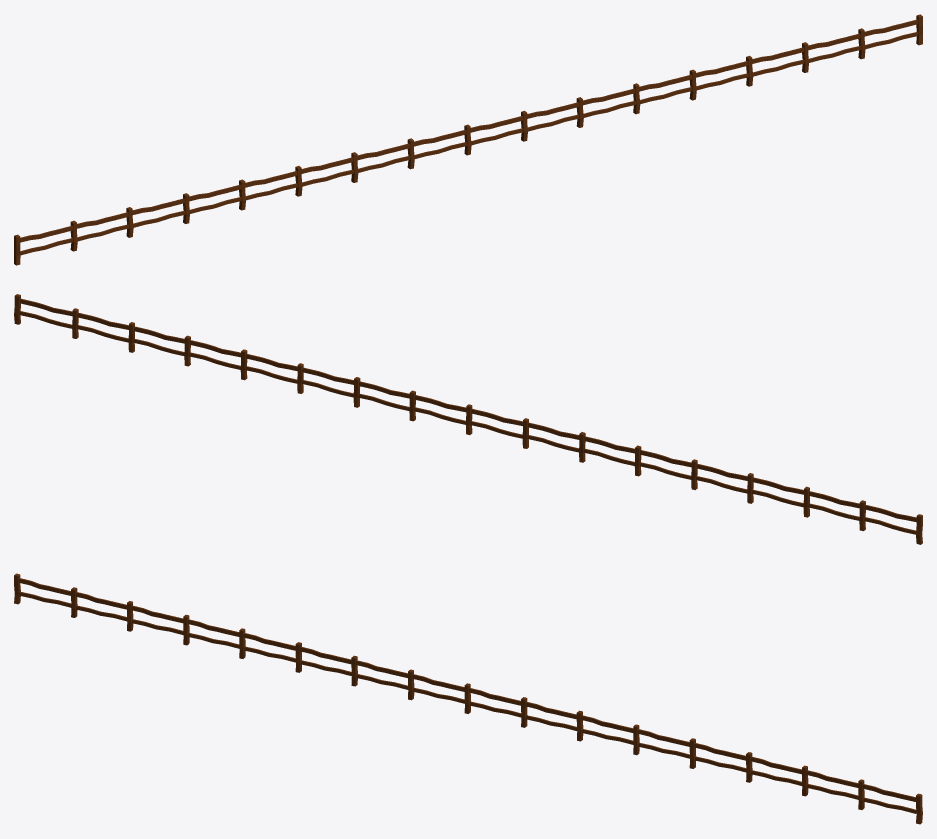
Rendered from FanceModel02.fbx.
3 views of the same model, one above another, from view 1: azimuth 30°, elevation 25°; view 2: azimuth 150°, elevation 25°; view 3: azimuth 330°, elevation 25° (orthographic).
Visible parts, largest first — view 1: Fence_3.011; view 2: Fence_3.011; view 3: Fence_3.011.
Boxes of the visible parts, left/top/right/bottom form: Fence_3.011: left=14, top=14, right=922, bottom=265; Fence_3.011: left=14, top=294, right=922, bottom=544; Fence_3.011: left=14, top=573, right=922, bottom=824.
Bounding box in the file's own units: 0.7762 × 0.0234 × 0.00407.
